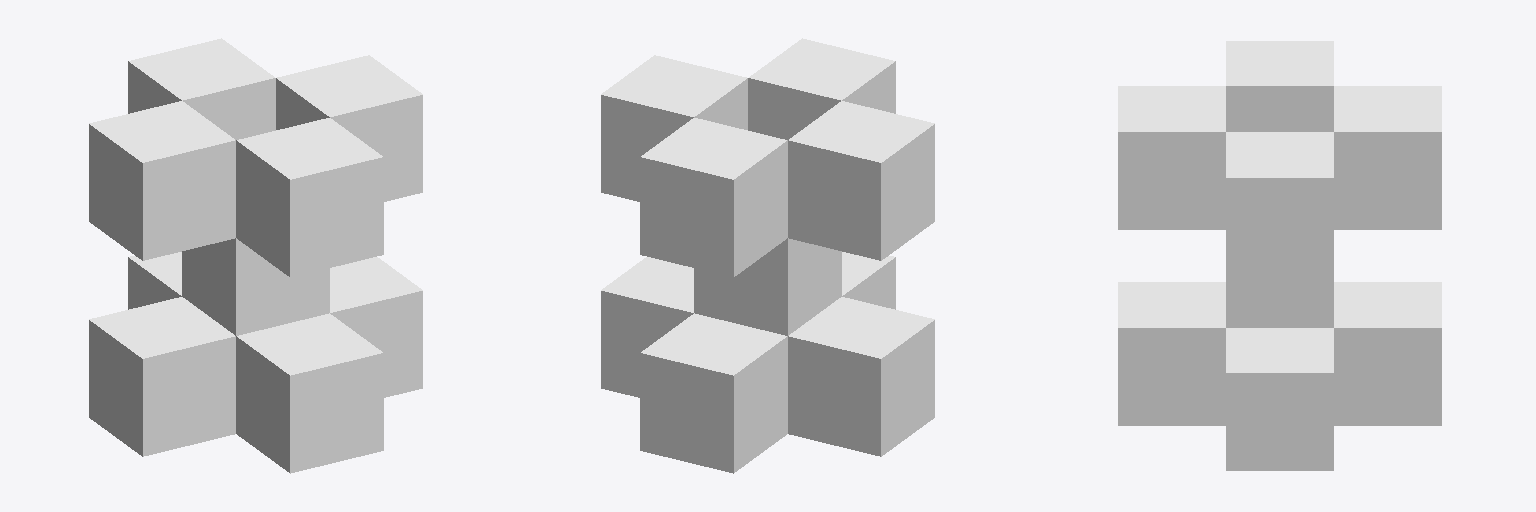
File: farm-39-carrot_growth3.obj
3 renders of one model, left to right at view 1: azimuth 30°, elevation 25°; view 2: azimuth 150°, elevation 25°; view 3: azimuth 270°, elevation 25°, orthographic.
Parts seen in each view (by area): view 1: carrot_growth3; view 2: carrot_growth3; view 3: carrot_growth3.
Boxes of the visible parts, x1,y1,x2,y2 form: carrot_growth3: [89, 38, 422, 473]; carrot_growth3: [601, 38, 934, 473]; carrot_growth3: [1118, 41, 1441, 470].
Size of the model in its own units: 0.3 by 0.3 by 0.3.